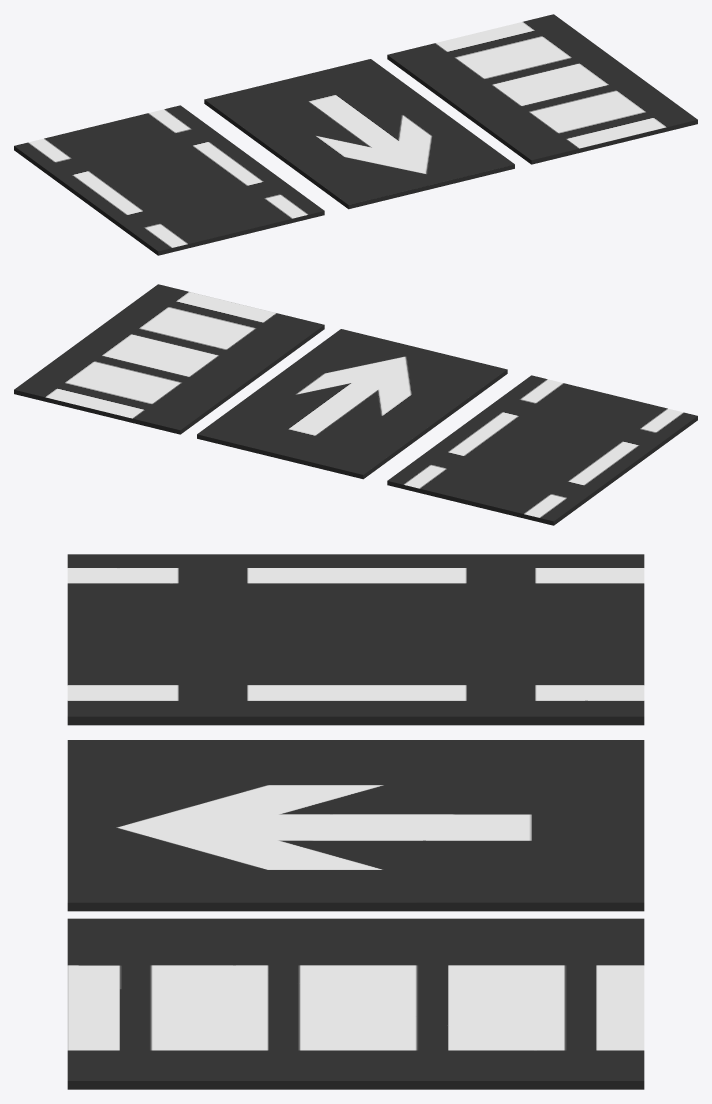
Rendered from road.fbx.
3 views of the same model, one above another, from view 1: azimuth 30°, elevation 25°; view 2: azimuth 150°, elevation 25°; view 3: azimuth 270°, elevation 25° (orthographic). The views are drawn at different scales.
Visible parts, largest first — view 1: plainRoad1, plainRoad3, plainRoad2; view 2: plainRoad1, plainRoad3, plainRoad2; view 3: plainRoad1, plainRoad2, plainRoad3.
Boxes of the visible parts, x1,y1,x2,y2 form: plainRoad1: [387, 14, 697, 164]; plainRoad3: [14, 105, 324, 255]; plainRoad2: [204, 59, 514, 209]; plainRoad1: [14, 284, 324, 434]; plainRoad3: [387, 375, 697, 525]; plainRoad2: [197, 329, 507, 479]; plainRoad1: [67, 918, 644, 1089]; plainRoad2: [67, 740, 644, 911]; plainRoad3: [67, 554, 644, 725].
Size of the model in its own units: 648 by 5 by 300.
Materials: 1 (1 with a texture image).
